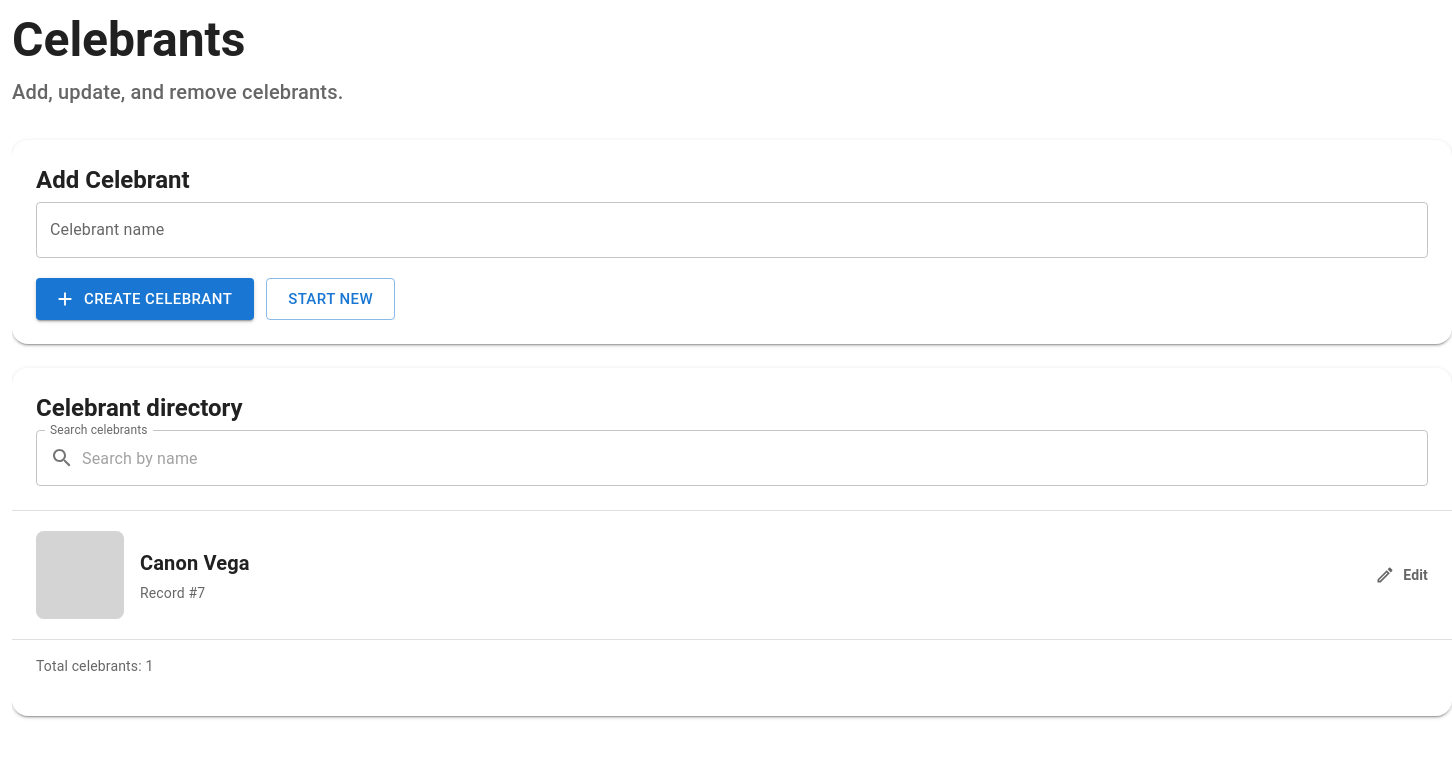
Test: CelebrantManagementPage › updates and deletes an existing celebrant
Click the button "Canon Vega Record #7 Edit": (732, 575) [12,511,1451,639]
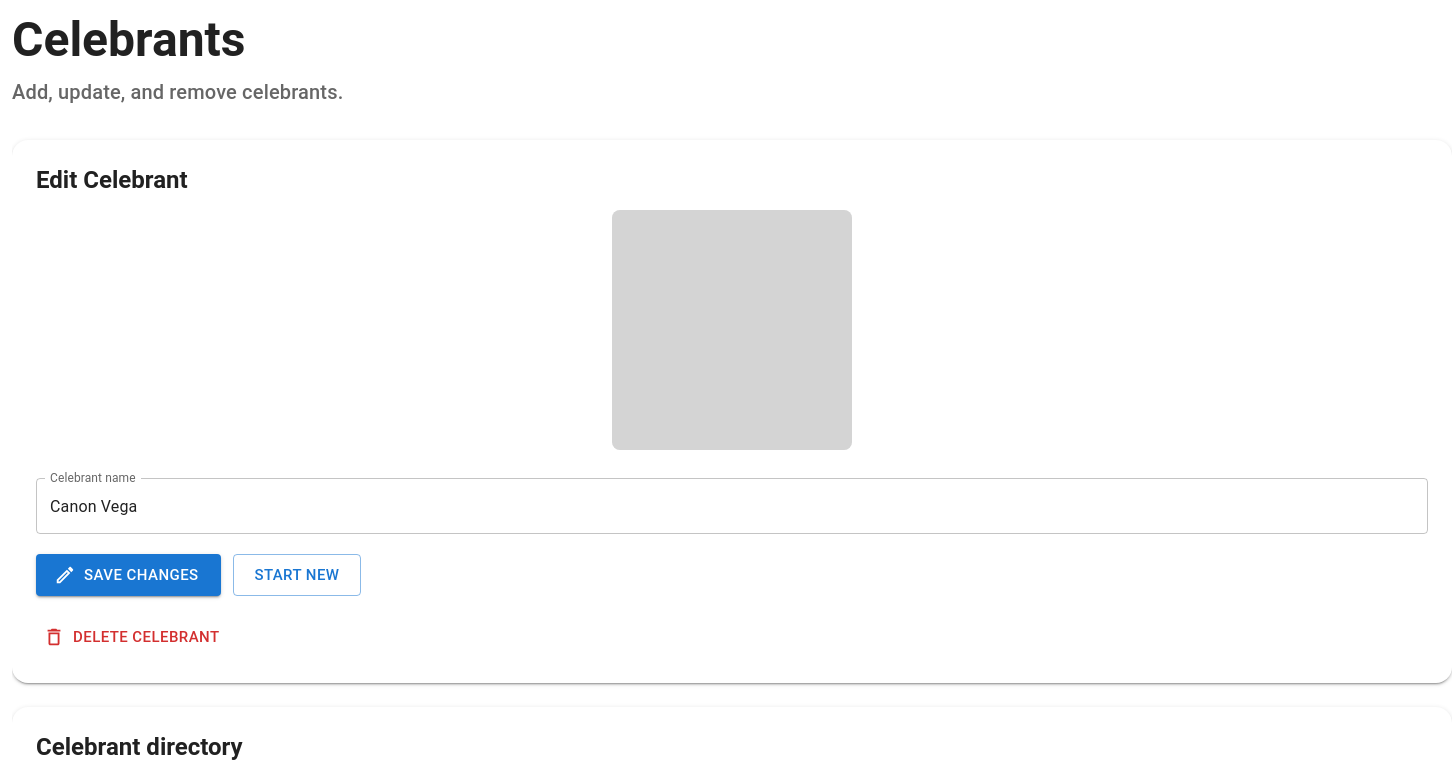
Replace the text in the field labelled "Celebrant name" with "Canon Vega-Soto": (732, 506) [36,478,1428,534]
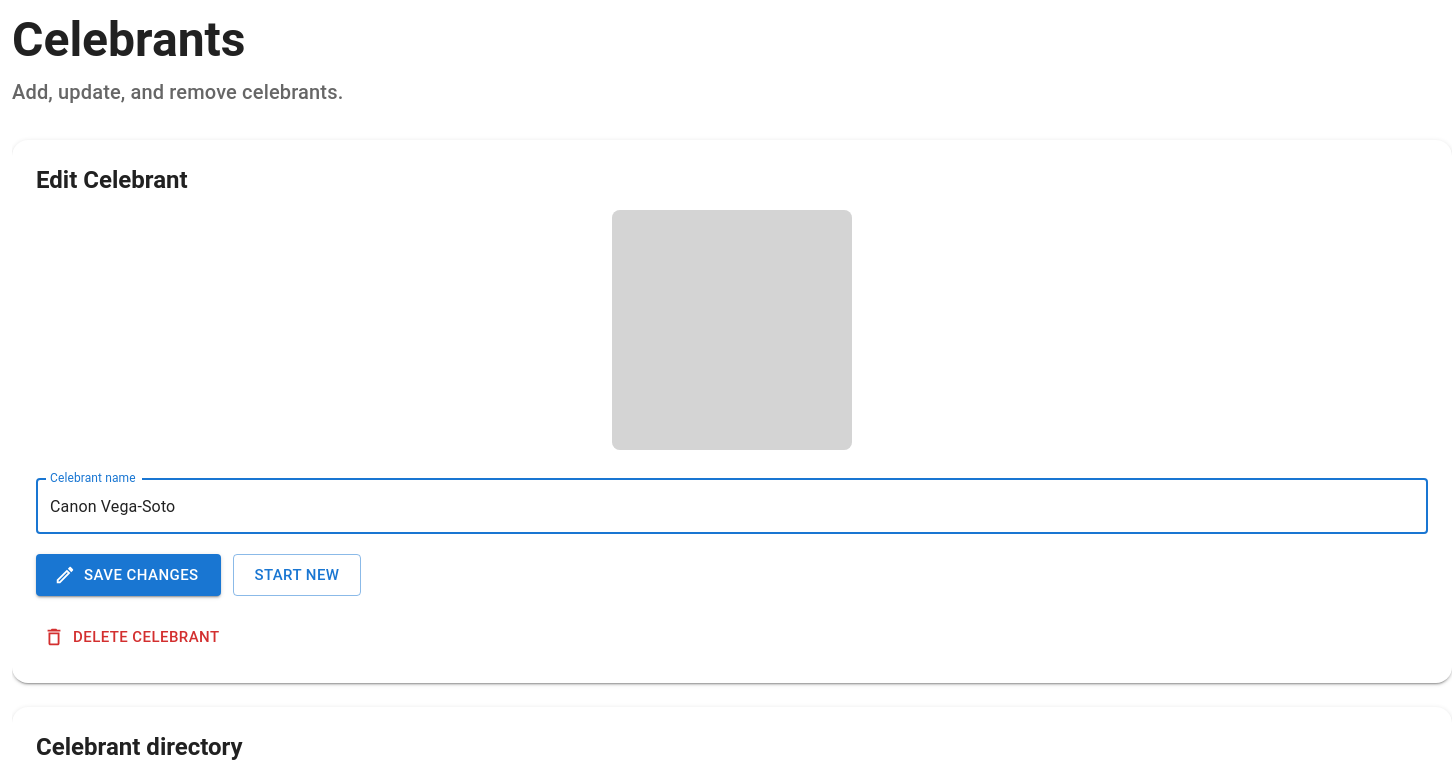
Click the button "Save Changes": (128, 575) [36,554,220,596]
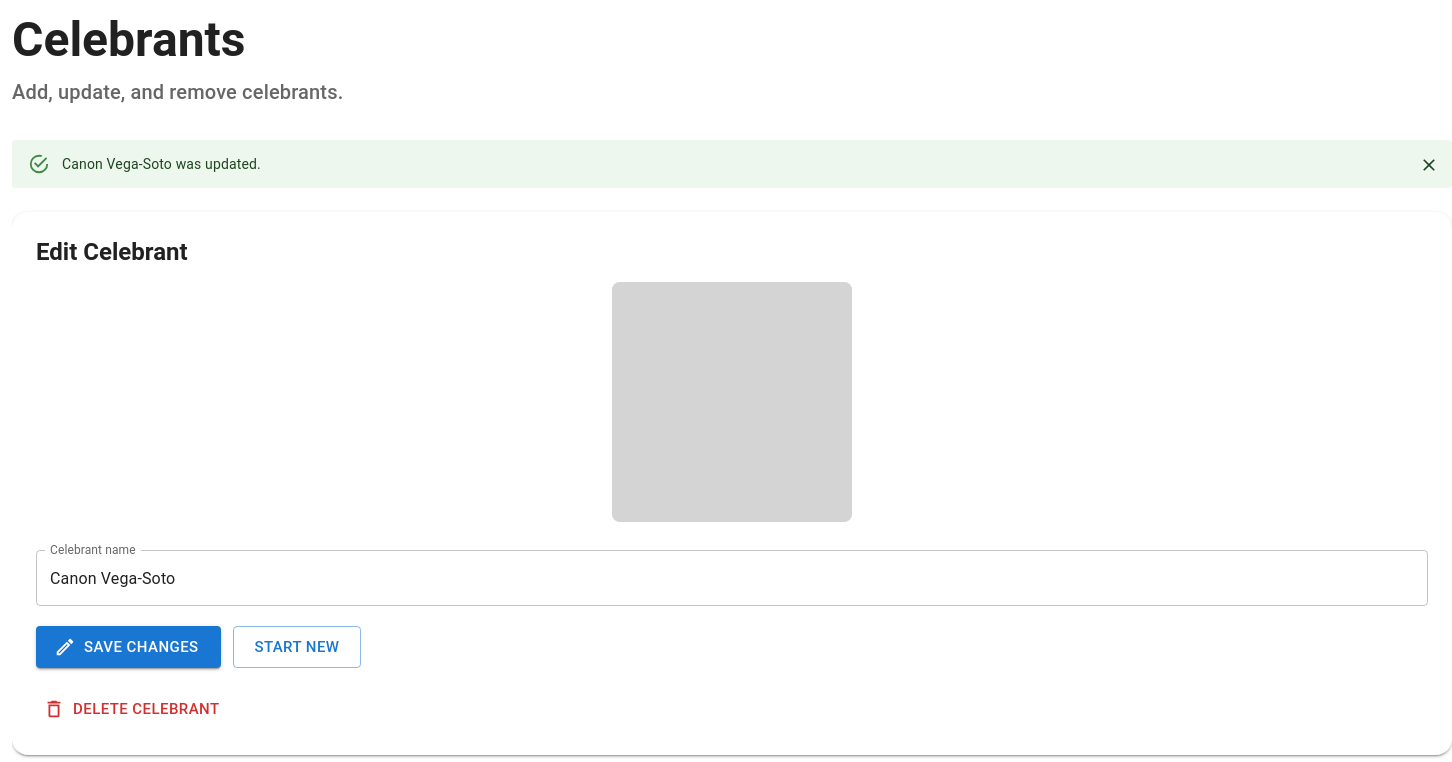
Expected: the text "Canon Vega-Soto was updated." is shown, [62,156,261,172]
Click the button "Delete Celebrant": (133, 709) [36,688,230,731]
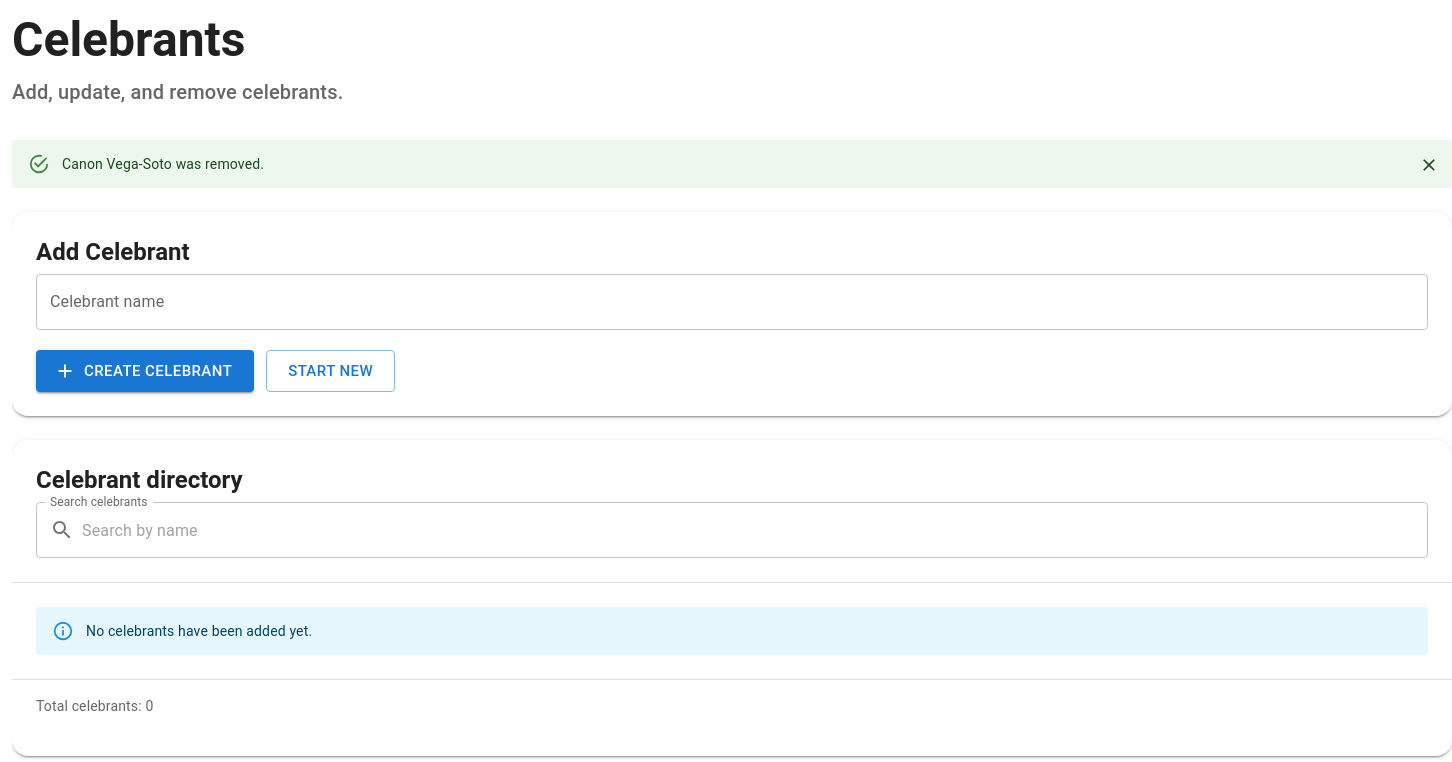
Expected: the text "Canon Vega-Soto was removed." is shown, [62,156,264,172]
Expected: the heading "Add Celebrant" is shown, [36,238,190,266]
